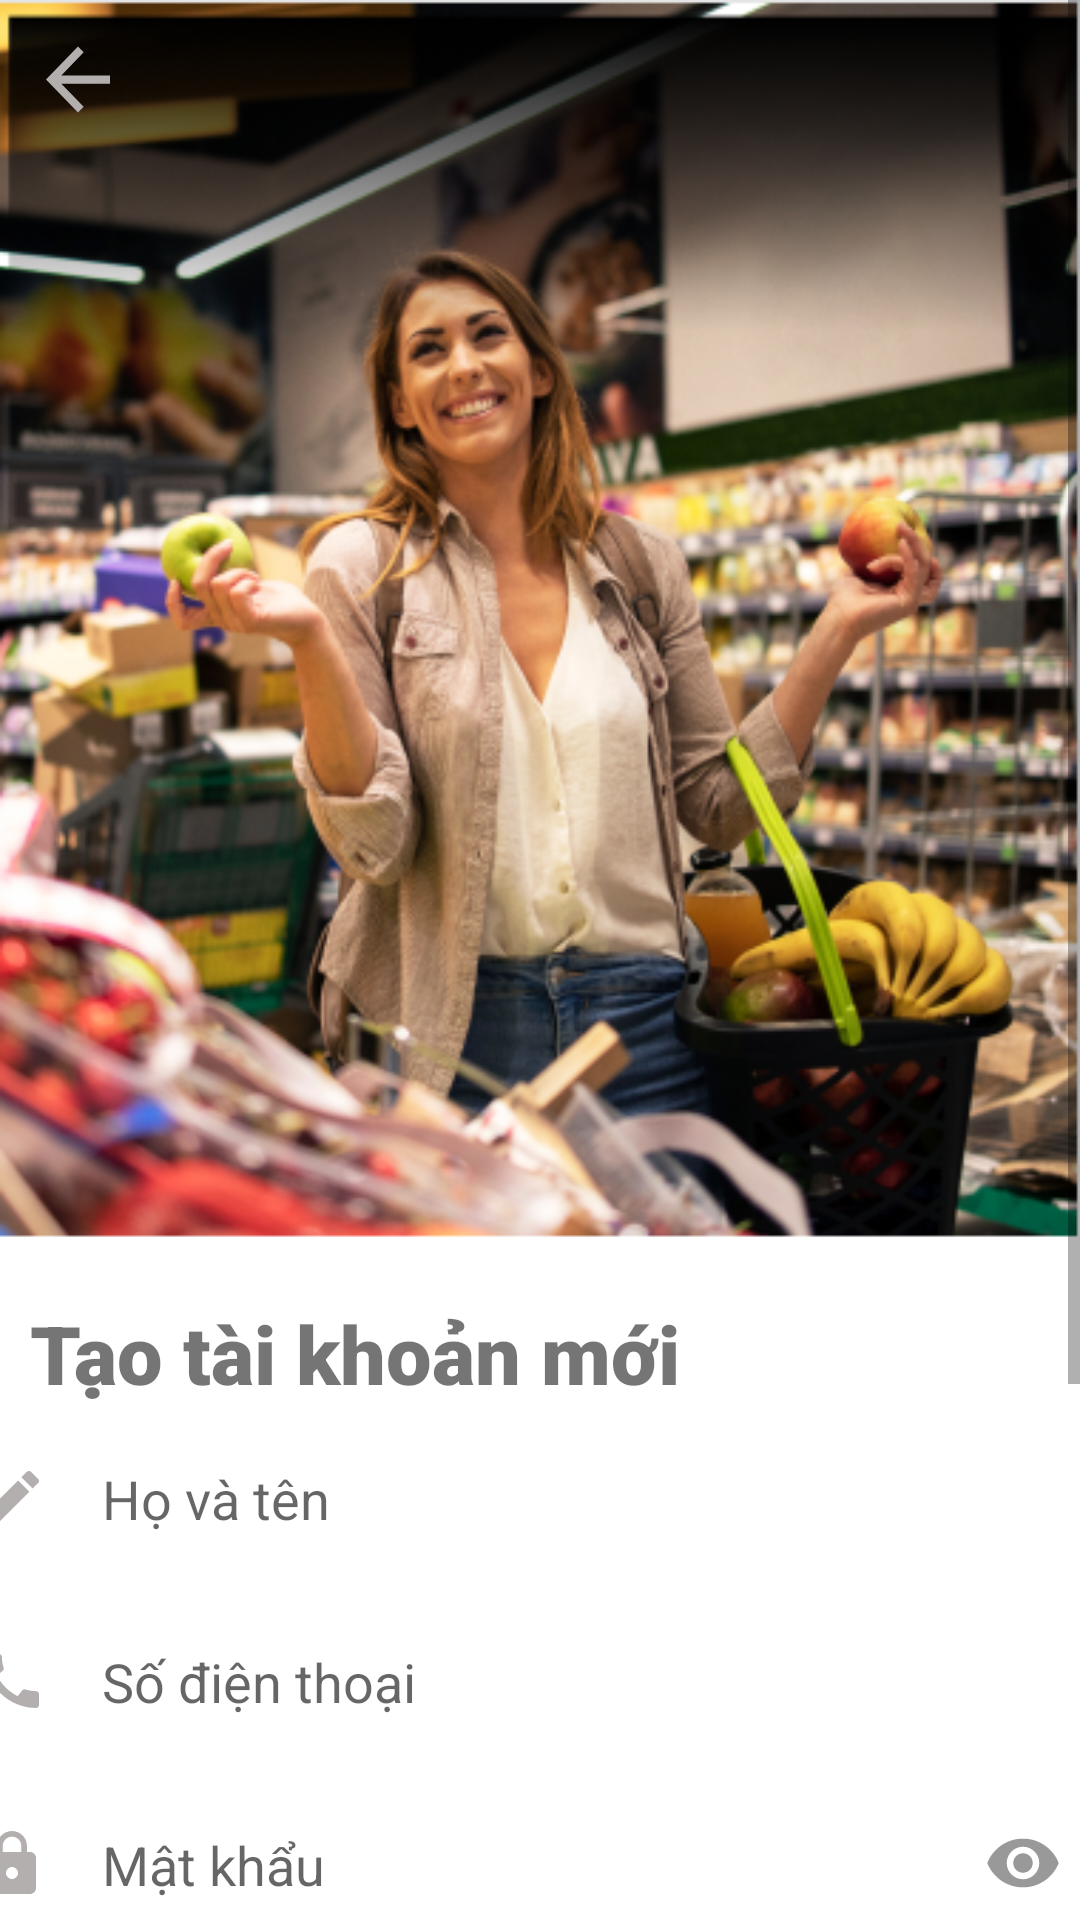

Icon bounding boxes for this 1080 × 1920 phone screenshot, format (x1, y1, x2, y2):
arrow back: (30, 47, 126, 129)
